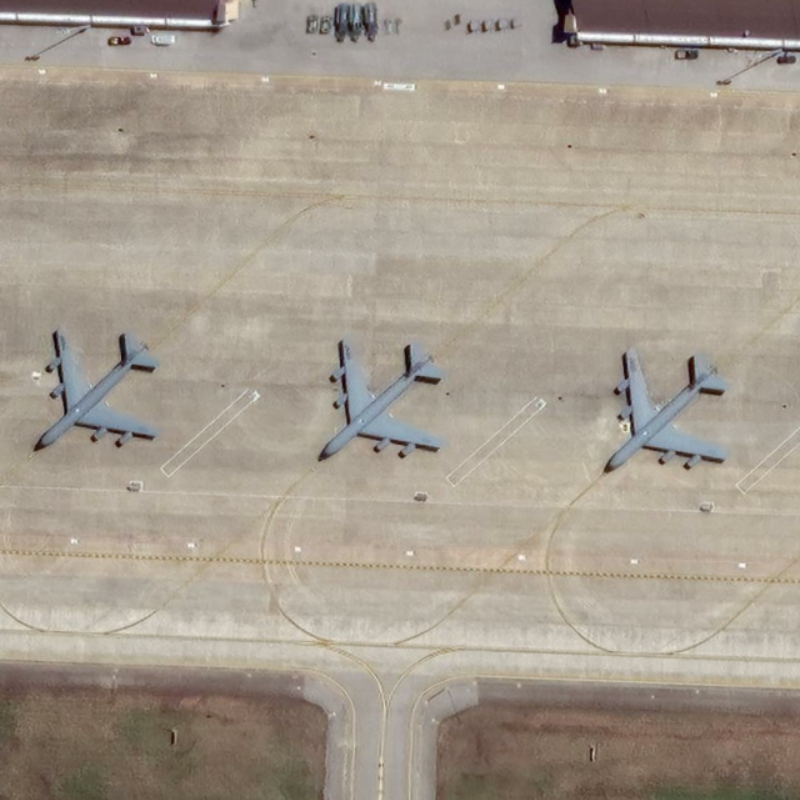A14: (600, 343, 734, 483), (30, 323, 166, 459), (313, 331, 448, 468)
